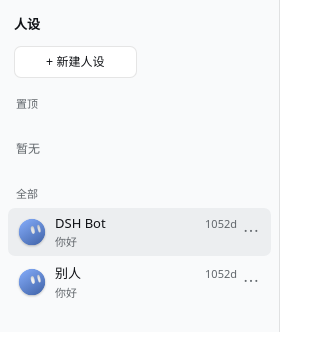
Roster › selects rows from the keyboard and folds categories with aria state while empty ones say so
Press Enter in the element with test id "roster-row-other", box [8,258,271,306]
Press Space in the element with test id "roster-row-other", box [8,258,271,306]
Note: Keys on the nested menu button stay with the button.
Press Enter in the button with test id "roster-menu-other", box [239,270,263,294]
Expected: the text with test id "roster-section-empty-pinned" reads "暂无", [16,140,40,156]
Click the button with test id "roster-section-toggle-default" at [27, 193], box [8,180,271,208]
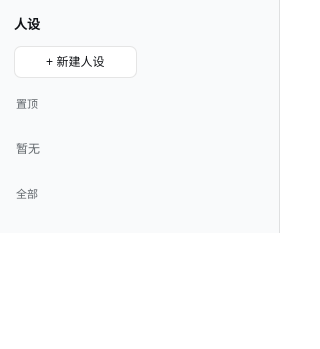
Result: the element with test id "roster-row-other" is gone
